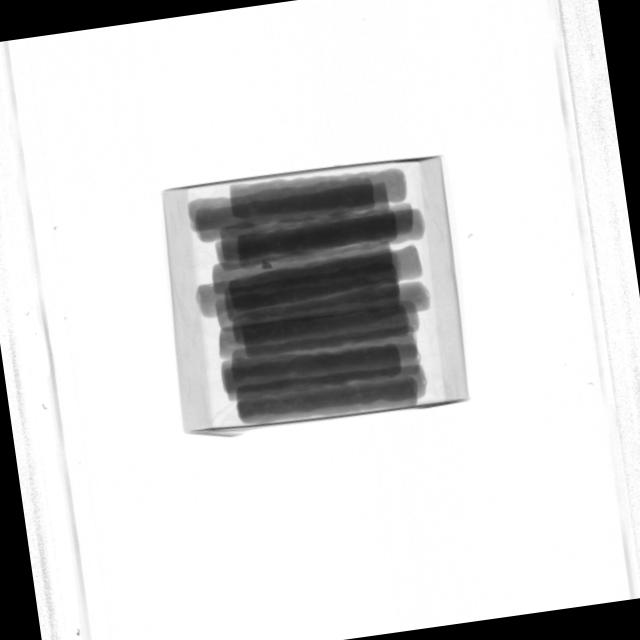ym: (262, 260, 274, 271)
